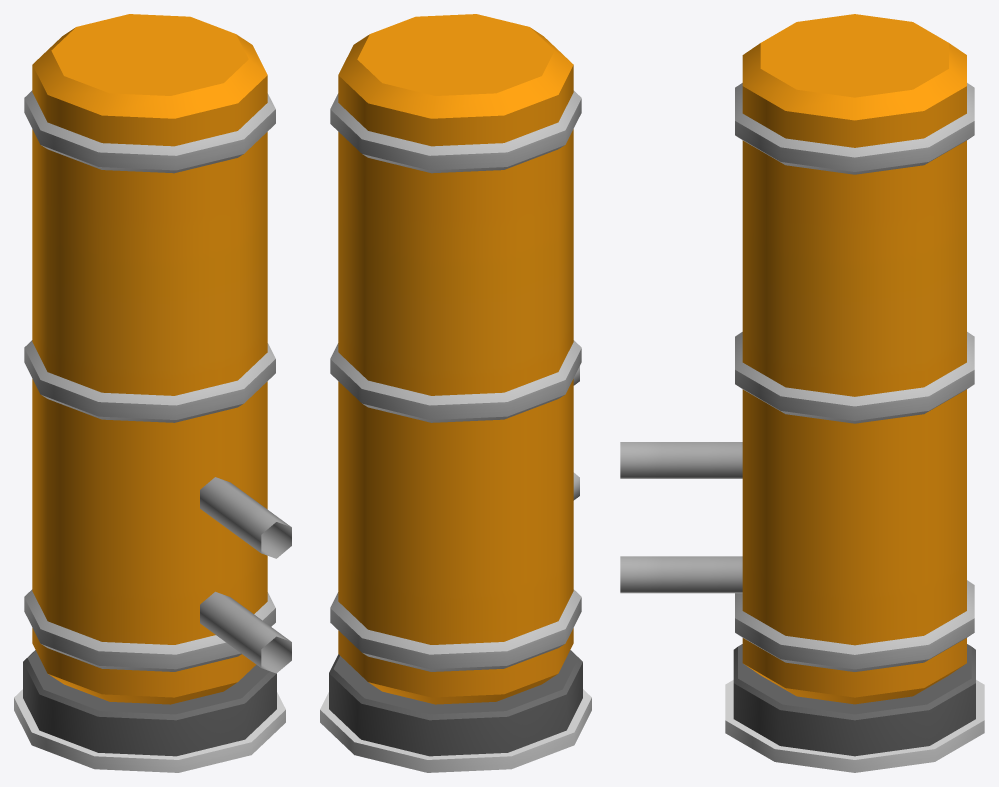
The model's file is GasTank_1_H.fbx.
The picture shows the model from 3 angles, left to right: view 1: azimuth 30°, elevation 25°; view 2: azimuth 150°, elevation 25°; view 3: azimuth 270°, elevation 25°; orthographic projection.
Visible parts, largest first — view 1: GasTank_1_H; view 2: GasTank_1_H; view 3: GasTank_1_H.
Part boxes in pixels (bbox=[...]): GasTank_1_H: bbox=[14, 14, 291, 772]; GasTank_1_H: bbox=[320, 14, 591, 772]; GasTank_1_H: bbox=[620, 14, 984, 772].
Size of the model in its own units: 284 by 758 by 379.
